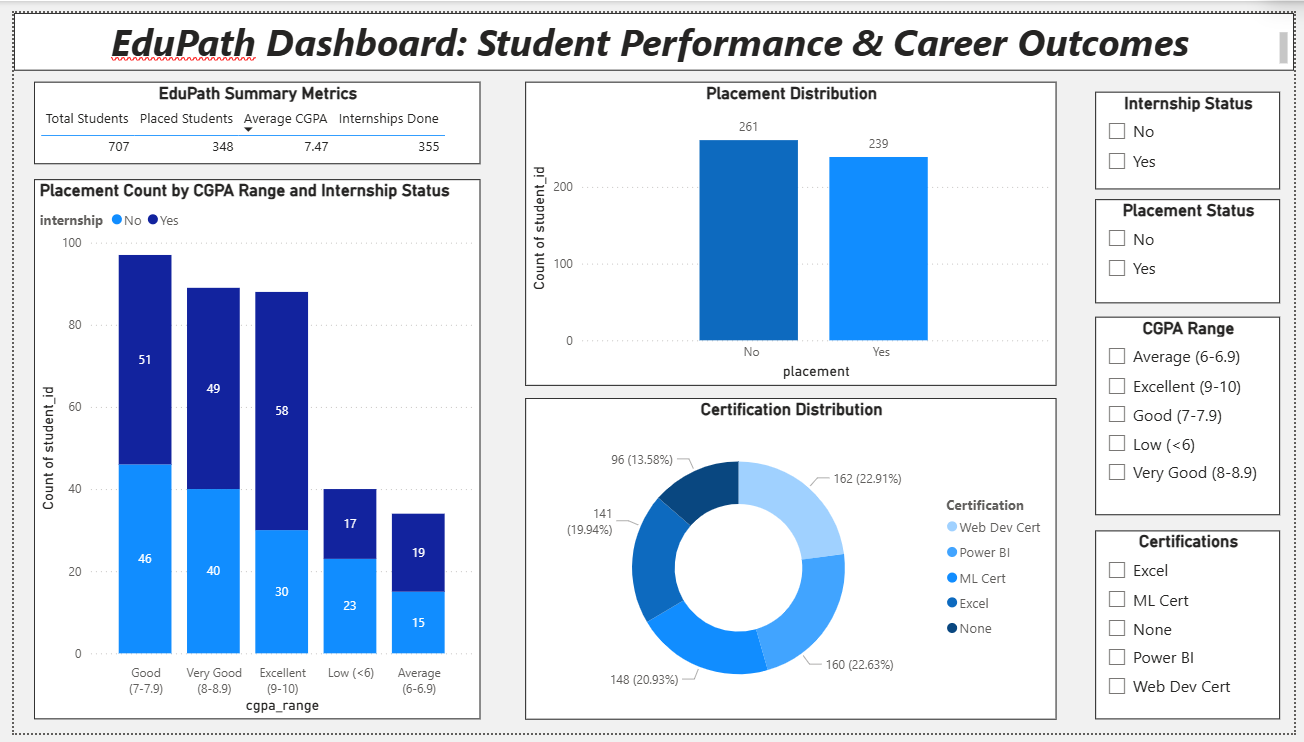

The page's visual inventory and layout, read from the dashboard file:
{"tool":"powerbi","page":{"name":"Page 1","canvas":[1280,720],"ordinal":0},"visuals":[{"type":"tableEx","title":"EduPath Summary Metrics","fields":{"Values":["edupath_clean.Total Students","edupath_clean.Placed Students","edupath_clean.Average CGPA","edupath_clean.Internships Done"]},"box":[20,68.8,446.2,82.5],"z":0},{"type":"clusteredColumnChart","title":"Placement Distribution","fields":{"Category":["edupath_clean.placement"],"Y":["Count(edupath_clean.student_id)"]},"box":[511.2,68.8,531.2,303.8],"z":1000},{"type":"columnChart","title":"Placement Count by CGPA Range and Internship Status","fields":{"Category":["edupath_clean.cgpa_range"],"Series":["edupath_clean.internship"],"Y":["CountNonNull(edupath_clean.student_id)"]},"box":[20,166.2,446.2,540],"z":2000},{"type":"donutChart","title":"Certification Distribution","fields":{"Category":["edupath_clean.Certification"],"Y":["CountNonNull(edupath_clean.student_id)"]},"box":[511.2,385,531.2,321.2],"z":3000},{"type":"slicer","title":"Internship Status","fields":{"Values":["edupath_clean.internship"]},"box":[1081.2,78.8,185,97.5],"z":4000},{"type":"slicer","title":"Placement Status","fields":{"Values":["edupath_clean.placement"]},"box":[1081.2,186.2,185,103.8],"z":5000},{"type":"slicer","title":"CGPA Range","fields":{"Values":["edupath_clean.cgpa_range"]},"box":[1081.2,303.8,185,198.8],"z":6000},{"type":"slicer","title":"Certifications","fields":{"Values":["edupath_clean.Certification"]},"box":[1081.2,517.5,185,188.8],"z":7000},{"type":"textbox","box":[0,0,1280,57.5],"z":8000}]}

Visuals, with their boxes in screenshot pixels (x1, y1, x2, y2), scaled from the page's 1280x720 canvas onto the 1304x742 screenshot:
"EduPath Summary Metrics" tableEx: l=20, t=71, r=475, b=156
"Placement Distribution" clusteredColumnChart: l=521, t=71, r=1062, b=384
"Placement Count by CGPA Range and Internship Status" columnChart: l=20, t=171, r=475, b=728
"Certification Distribution" donutChart: l=521, t=397, r=1062, b=728
"Internship Status" slicer: l=1101, t=81, r=1290, b=182
"Placement Status" slicer: l=1101, t=192, r=1290, b=299
"CGPA Range" slicer: l=1101, t=313, r=1290, b=518
"Certifications" slicer: l=1101, t=533, r=1290, b=728
textbox: l=0, t=0, r=1303, b=59
